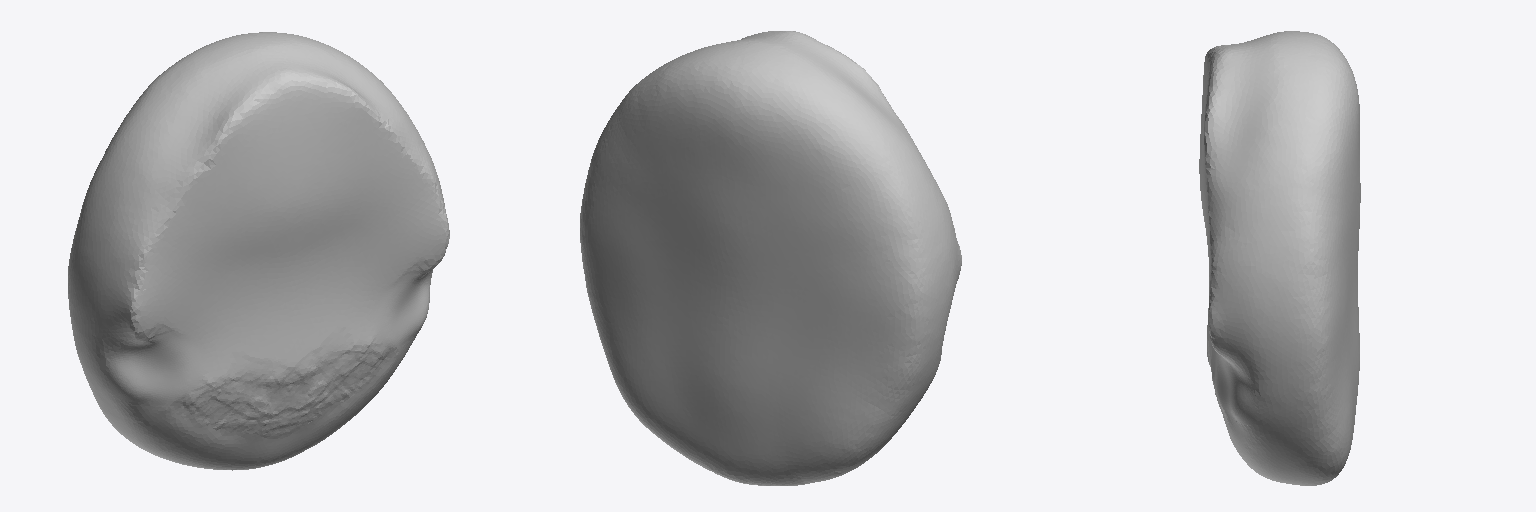
File: back1.obj
3 renders of one model, left to right at view 1: azimuth 30°, elevation 25°; view 2: azimuth 150°, elevation 25°; view 3: azimuth 270°, elevation 25°, orthographic.
Parts seen in each view (by area): view 1: Group12609; view 2: Group12609; view 3: Group12609.
Boxes of the visible parts, box(x1,y1,x2,y2) form: Group12609: box(68, 32, 449, 470); Group12609: box(580, 31, 961, 485); Group12609: box(1199, 31, 1360, 485).
Size of the model in its own units: 0.362 by 0.415 by 0.1444.